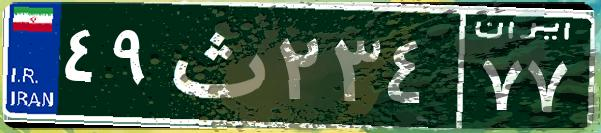2: (273, 28, 330, 110)
3: (330, 28, 385, 110)
4: (385, 28, 445, 110), (57, 26, 110, 107)
7: (475, 38, 525, 113), (525, 38, 570, 115)
9: (110, 28, 158, 105)
ث: (158, 15, 273, 115)
